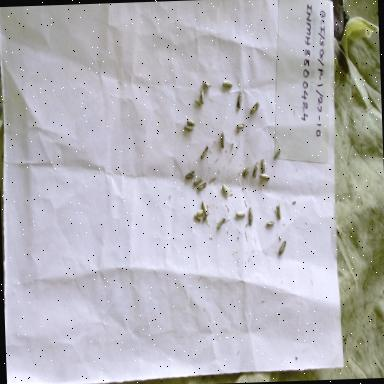pbw: (246, 102, 260, 116), (278, 240, 288, 258), (236, 88, 243, 113), (247, 207, 255, 227), (216, 217, 228, 230), (240, 165, 251, 179), (251, 160, 259, 179), (199, 145, 209, 160), (220, 76, 232, 88), (272, 146, 282, 160), (201, 200, 208, 218), (220, 184, 231, 195), (219, 130, 225, 150), (184, 170, 196, 180), (274, 202, 281, 219), (195, 208, 206, 218), (201, 80, 212, 90), (259, 172, 270, 182), (197, 181, 207, 192), (234, 210, 246, 219), (198, 88, 204, 104), (260, 158, 266, 174), (236, 122, 245, 132), (192, 177, 202, 186), (186, 118, 195, 128), (192, 213, 200, 224), (194, 96, 201, 108), (184, 124, 193, 132), (265, 220, 273, 227)
